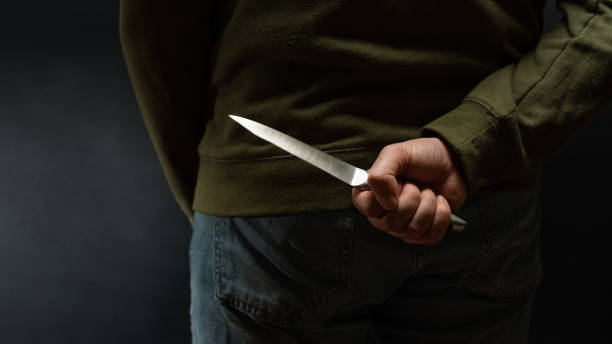knife: (228, 111, 468, 241)
